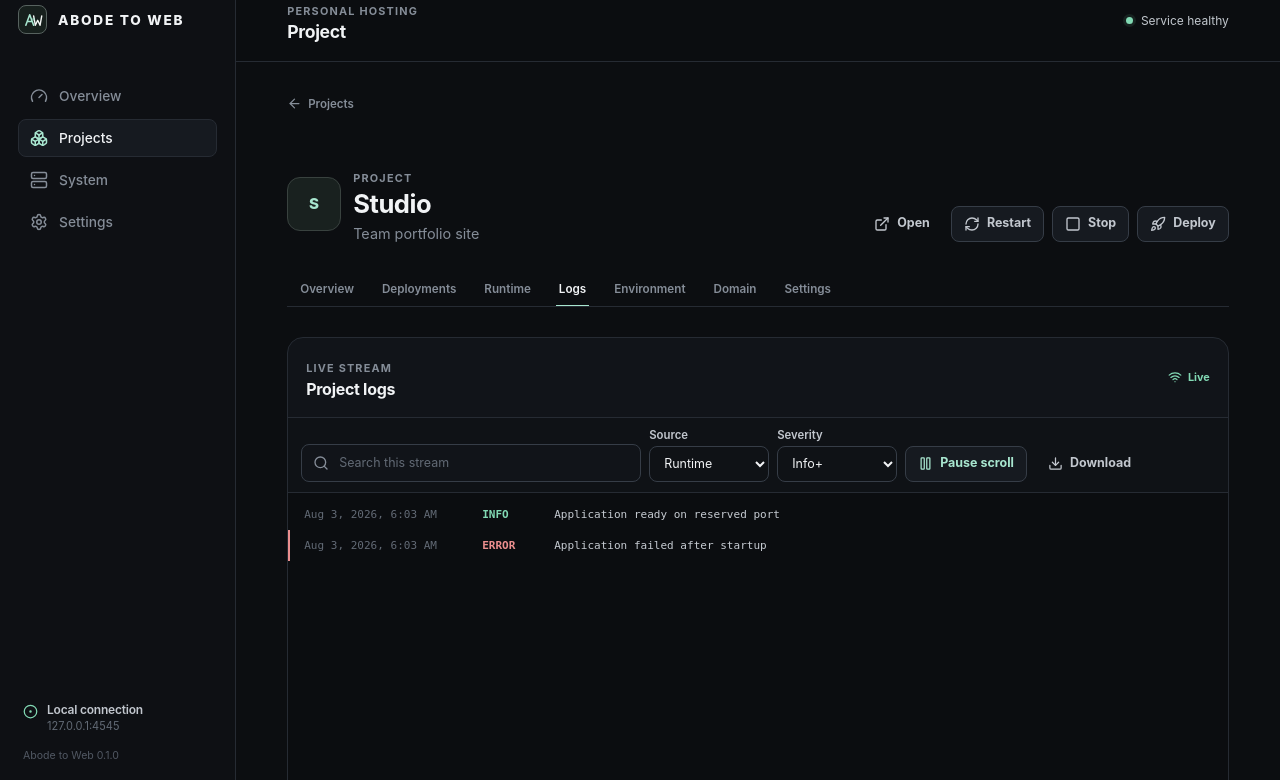
Test: live logs › streams entries, filters them, and allows auto-scroll to pause
Check: the text "Application ready on reserved port" is shown, box [554, 508, 780, 521]
Check: the message reads "Live", box [1188, 370, 1210, 384]
Step 1. Click the button "Pause scroll" → (966, 464), box [905, 446, 1027, 482]
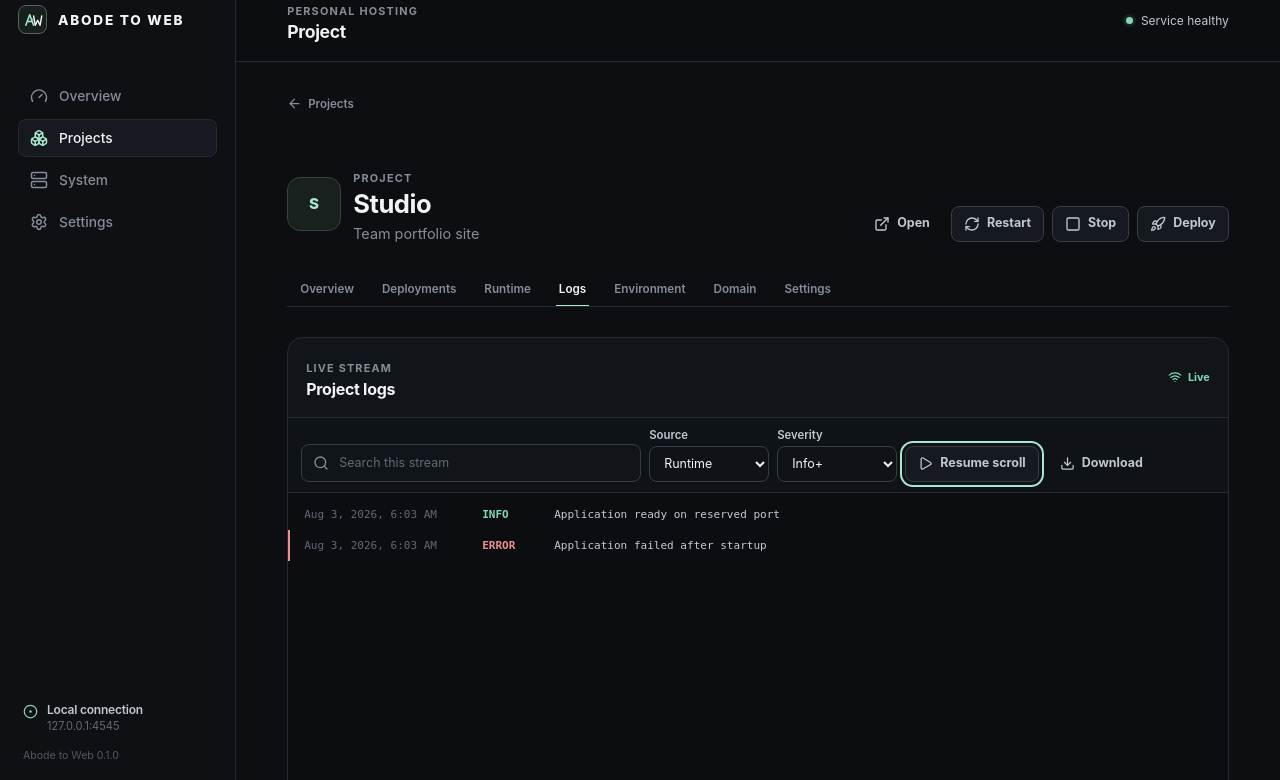
Check: the button "Resume scroll" is not pressed, box [905, 446, 1039, 482]
Step 2. Select "Error+" in the dropdown labelled "Severity" → (837, 464), box [777, 446, 897, 482]
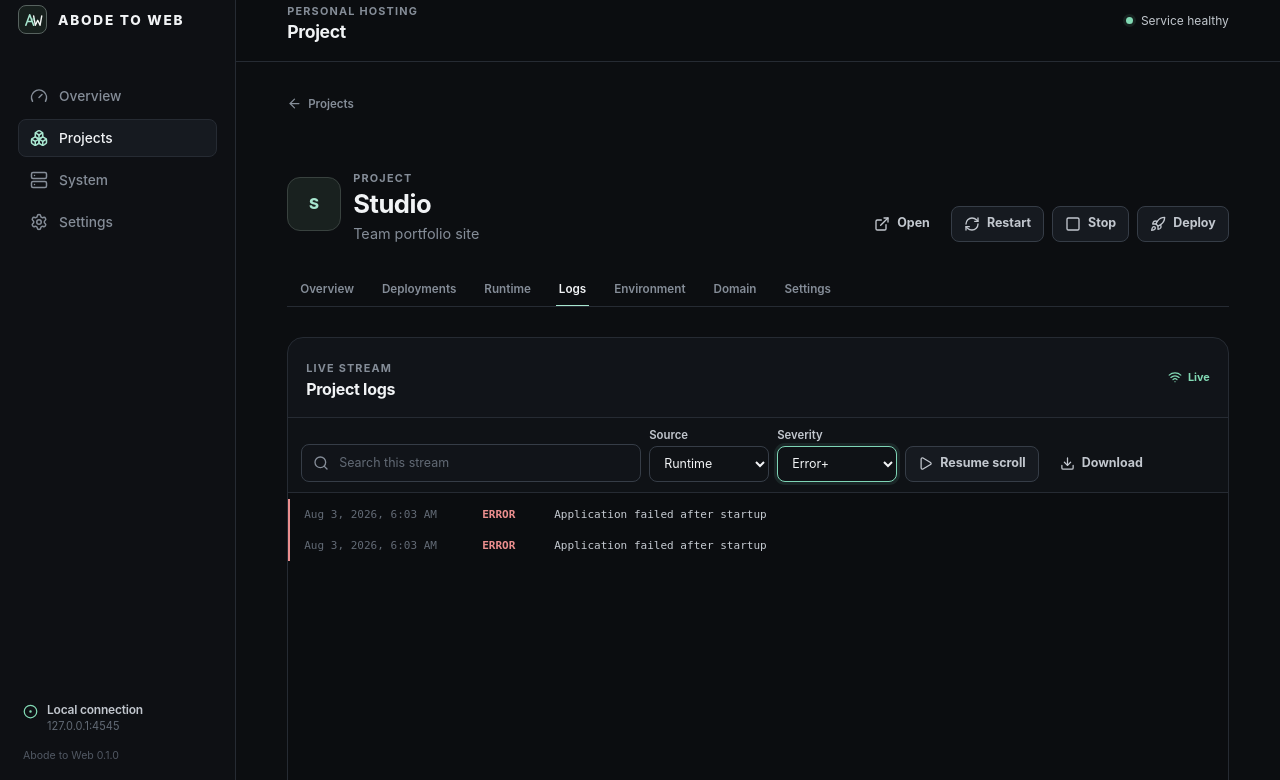
Check: the 1st text "Application failed after startup" is shown, box [554, 508, 767, 521]
Check: the text "Application ready on reserved port" is gone
Step 3. Type "missing" into the search field named "Search logs" → (483, 463), box [337, 454, 629, 471]
(page scrolled)
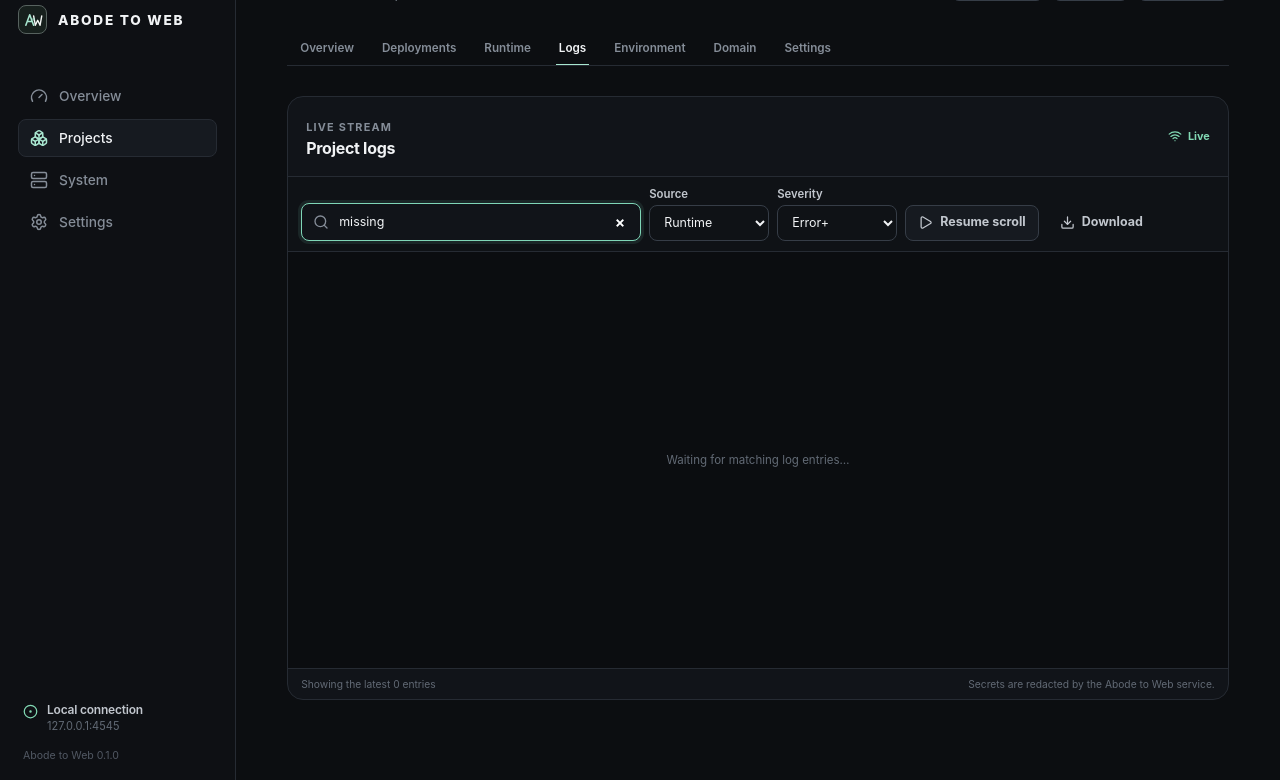
Check: the text "Waiting for matching log entries…" is shown, box [667, 453, 849, 467]
